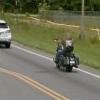Motorcycle: (47, 31, 83, 76)
